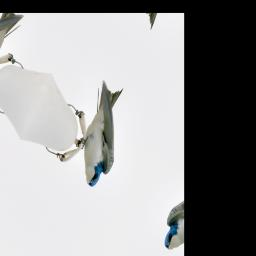Swallow: (61, 72, 142, 194)
